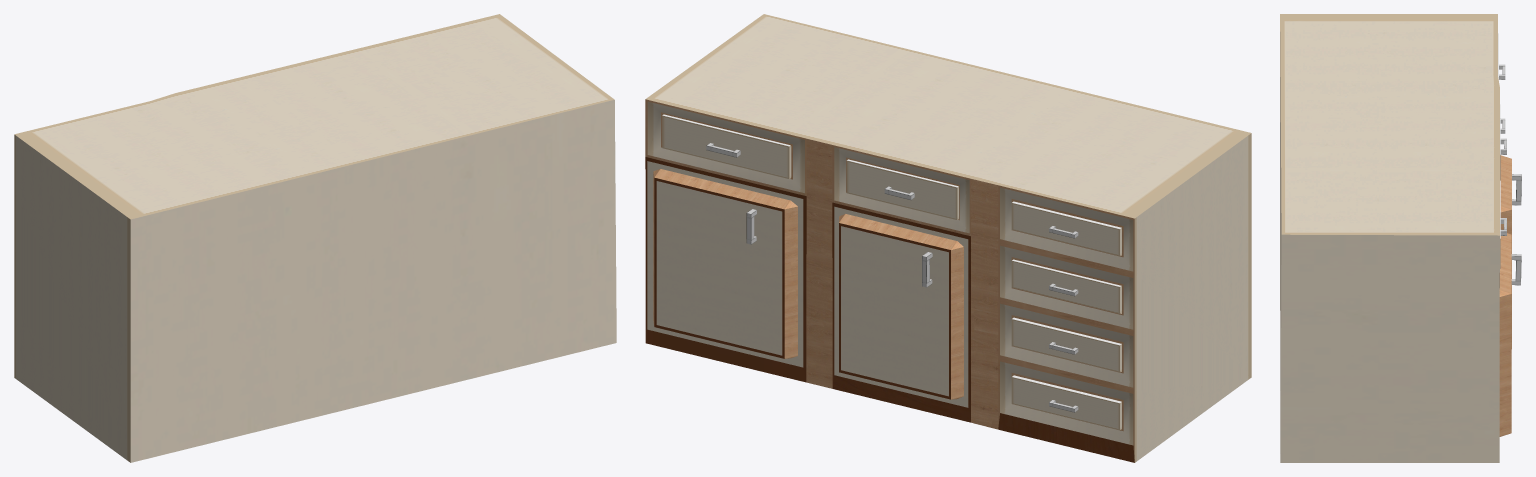
Rendered from Countertop_Kitchen_Main.fbx.
3 renders of one model, left to right at view 1: azimuth 30°, elevation 25°; view 2: azimuth 150°, elevation 25°; view 3: azimuth 270°, elevation 25°, orthographic. The views are drawn at different scales.
Parts seen in each view (by area): view 1: Kitchen_Counter; view 2: Kitchen_Counter; view 3: Kitchen_Counter.
Part boxes in pixels (x1,y1,x2,y2): Kitchen_Counter: [14, 14, 616, 462]; Kitchen_Counter: [645, 14, 1251, 462]; Kitchen_Counter: [1280, 14, 1521, 462].
Size of the model in its own units: 189 by 90.76 by 87.
